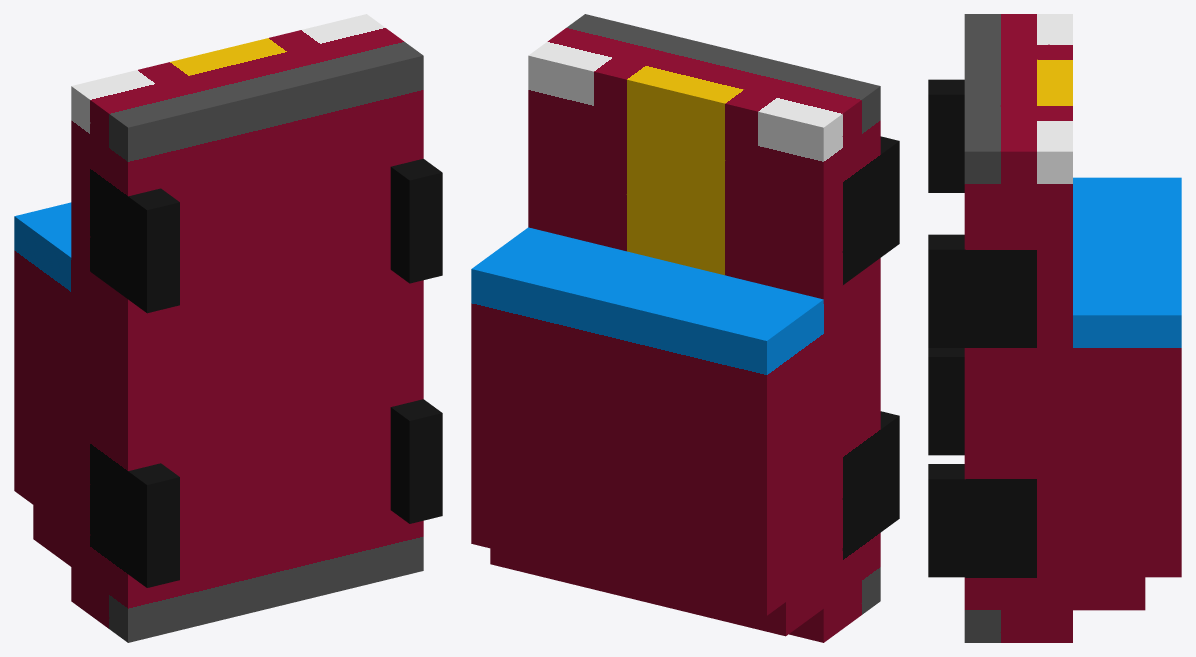
File: hatch-back.dae
The picture shows the model from 3 angles, left to right: view 1: azimuth 30°, elevation 25°; view 2: azimuth 150°, elevation 25°; view 3: azimuth 270°, elevation 25°; orthographic projection. The views are drawn at different scales.
Parts seen in each view (by area): view 1: hatch-back.hatch-back; view 2: hatch-back.hatch-back; view 3: hatch-back.hatch-back.
Boxes of the visible parts, left/top/right/bottom form: hatch-back.hatch-back: left=14, top=14, right=442, bottom=642; hatch-back.hatch-back: left=471, top=14, right=899, bottom=642; hatch-back.hatch-back: left=928, top=14, right=1181, bottom=642.
Bounding box in the file's own units: 0.9 × 0.7 × 1.5.
